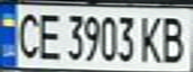0: (100, 12, 118, 63)
3: (60, 10, 84, 62), (115, 12, 139, 63)
9: (81, 11, 103, 62)
B: (157, 12, 190, 64)
C: (9, 8, 42, 61)
E: (33, 9, 63, 62)
K: (136, 12, 166, 64)
